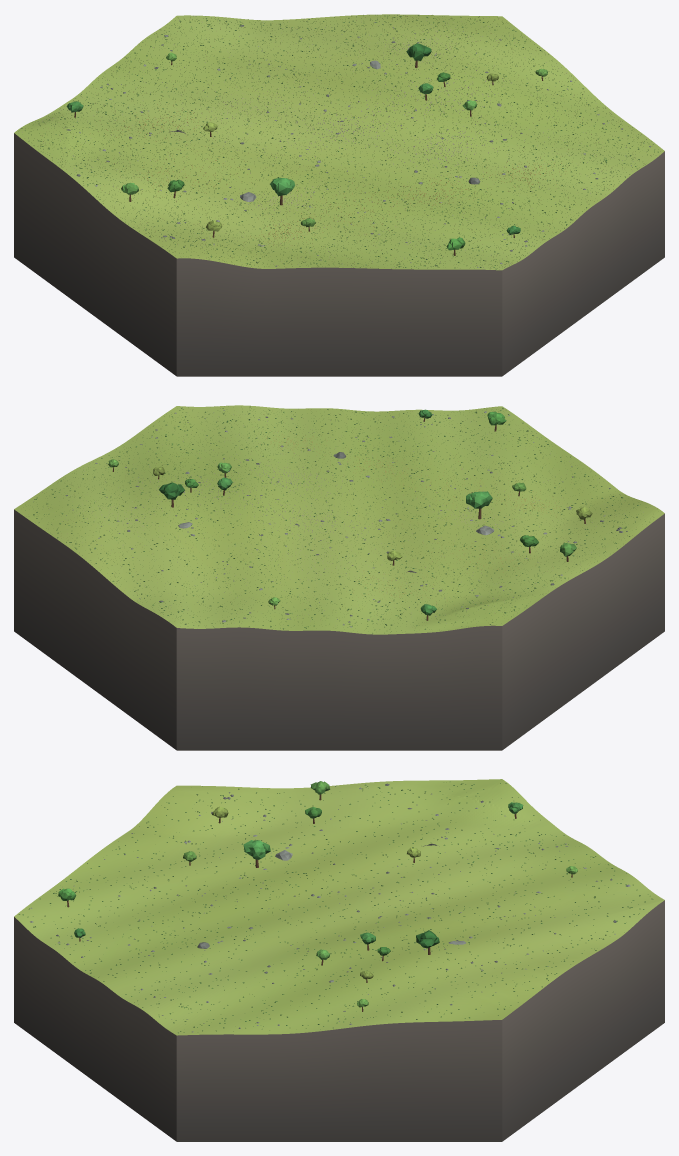
3 views of the same model, one above another, from view 1: azimuth 30°, elevation 25°; view 2: azimuth 150°, elevation 25°; view 3: azimuth 270°, elevation 25° (orthographic).
Visible parts, largest first — view 1: terrain, hex_side_cut, wildflowers, shrubs, broadleaf_canopy, boulders; view 2: terrain, hex_side_cut, wildflowers, shrubs, broadleaf_canopy, boulders; view 3: terrain, hex_side_cut, shrubs, broadleaf_canopy, boulders.
Boxes of the visible parts, bbox=[...] form: terrain: bbox=[14, 14, 664, 270]; hex_side_cut: bbox=[14, 133, 664, 376]; wildflowers: bbox=[18, 15, 660, 269]; shrubs: bbox=[21, 15, 658, 269]; broadleaf_canopy: bbox=[66, 43, 547, 250]; boulders: bbox=[67, 22, 650, 267]; terrain: bbox=[14, 405, 664, 634]; hex_side_cut: bbox=[14, 509, 664, 750]; wildflowers: bbox=[33, 406, 645, 633]; shrubs: bbox=[25, 406, 646, 633]; broadleaf_canopy: bbox=[108, 409, 592, 615]; boulders: bbox=[47, 410, 627, 627]; terrain: bbox=[14, 779, 664, 1035]; hex_side_cut: bbox=[14, 900, 664, 1141]; shrubs: bbox=[18, 781, 653, 1033]; broadleaf_canopy: bbox=[58, 781, 577, 1007]; boulders: bbox=[30, 783, 630, 1032].
Size of the model in its own units: 4330 by 1280 by 5000.
